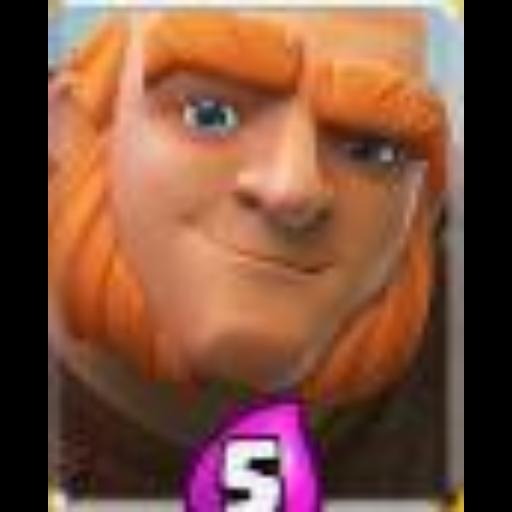giant: (49, 0, 465, 512)
